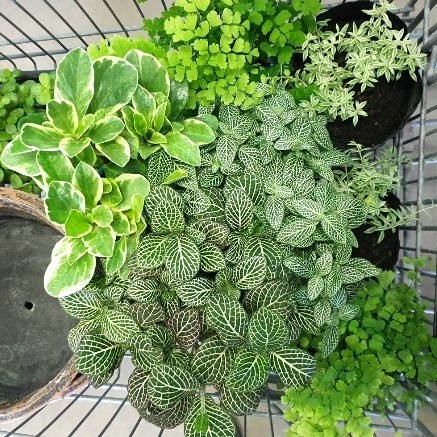obstacle: (143, 86, 330, 395), (18, 50, 168, 293), (295, 267, 427, 416), (152, 0, 289, 107), (298, 11, 416, 124), (337, 130, 427, 241)
